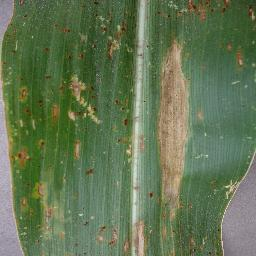Corn_Blight: (156, 35, 193, 236), (61, 16, 130, 54), (153, 0, 256, 21), (64, 74, 102, 126), (85, 221, 121, 251), (4, 109, 35, 143), (122, 219, 147, 256), (0, 23, 19, 64), (224, 38, 248, 69), (115, 96, 132, 129), (40, 205, 60, 232), (29, 177, 52, 200), (67, 54, 124, 63), (9, 147, 32, 169), (221, 179, 245, 199), (117, 137, 131, 167), (188, 237, 210, 256), (82, 0, 104, 14), (16, 86, 30, 104), (72, 137, 82, 161), (138, 133, 149, 154), (194, 108, 207, 123), (196, 149, 211, 161), (35, 137, 49, 148), (85, 165, 96, 178), (18, 195, 28, 209), (51, 102, 59, 119), (40, 69, 51, 79), (147, 189, 155, 201), (37, 97, 44, 109), (40, 45, 50, 53), (17, 76, 27, 84), (16, 0, 28, 6), (22, 14, 31, 21), (76, 240, 80, 250)
